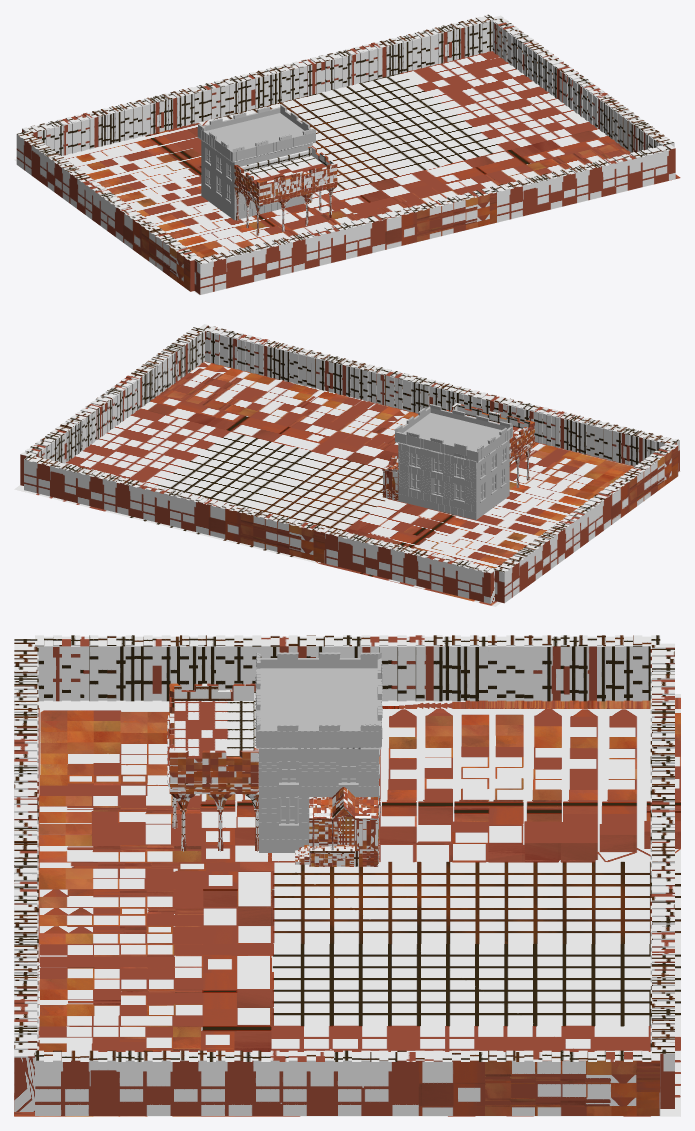
File: house 2.fbx
The picture shows the model from 3 angles, top to bottom: view 1: azimuth 30°, elevation 25°; view 2: azimuth 150°, elevation 25°; view 3: azimuth 270°, elevation 25°; orthographic projection. The views are drawn at different scales.
Visible parts, largest first — view 1: house_floor2, house2_wall_short_.002, house2_wall_short_.004, house2_wall_short_.001, Second_Building_Vr_main_2, house2_wall_short_, house2_wall_short_.003, house2_wall_short_.005, Second_Building_Vr_rest; view 2: house_floor2, house2_wall_short_.004, Second_Building_Vr_main_2, house2_wall_short_.002, house2_wall_short_.001, house2_wall_short_, house2_wall_short_.005, house2_wall_short_.003, Second_Building_Vr_rest, Second_Building_Vr_entrance_2.001; view 3: house_floor2, house2_wall_short_, house2_wall_short_.001, Second_Building_Vr_main_2, Second_Building_Vr_rest, house2_wall_short_.004, house2_wall_short_.002, Second_Building_Vr_entrance_2.001, house2_wall_short_.003, house2_wall_short_.005.
Boxes of the visible parts, x1,y1,x2,y2 form: house_floor2: (14, 51, 680, 295); house2_wall_short_.002: (194, 188, 496, 294); house2_wall_short_.004: (187, 14, 494, 123); house2_wall_short_.001: (16, 131, 201, 291); Second_Building_Vr_main_2: (197, 104, 315, 220); house2_wall_short_: (492, 15, 674, 152); house2_wall_short_.003: (490, 144, 675, 222); house2_wall_short_.005: (22, 85, 207, 155); Second_Building_Vr_rest: (234, 146, 337, 235); house_floor2: (14, 361, 680, 606); house2_wall_short_.004: (24, 454, 331, 563); Second_Building_Vr_main_2: (394, 404, 512, 519); house2_wall_short_.002: (372, 368, 679, 471); house2_wall_short_.001: (493, 442, 678, 603); house2_wall_short_: (20, 327, 205, 485); house2_wall_short_.005: (312, 525, 495, 603); house2_wall_short_.003: (199, 324, 383, 403); Second_Building_Vr_rest: (446, 403, 534, 487); Second_Building_Vr_entrance_2.001: (382, 455, 398, 500); house_floor2: (14, 694, 680, 1116); house2_wall_short_: (35, 1050, 660, 1115); house2_wall_short_.001: (35, 635, 660, 701); Second_Building_Vr_main_2: (255, 652, 382, 852); Second_Building_Vr_rest: (167, 683, 258, 851); house2_wall_short_.004: (650, 802, 674, 1108); house2_wall_short_.002: (14, 639, 38, 908); Second_Building_Vr_entrance_2.001: (295, 787, 379, 866); house2_wall_short_.003: (14, 899, 38, 1111); house2_wall_short_.005: (650, 643, 674, 805).
Size of the model in its own units: 21042 by 3019 by 13936.
